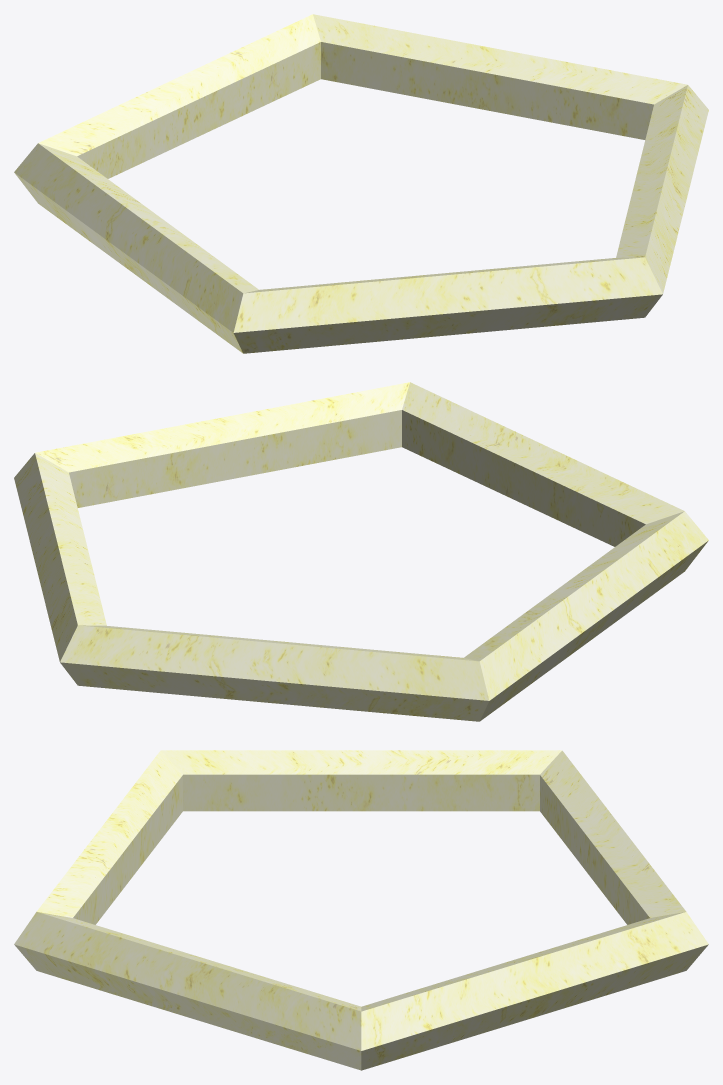
The model's file is Brass_Pentagon.gltf.
3 views of the same model, one above another, from view 1: azimuth 30°, elevation 25°; view 2: azimuth 150°, elevation 25°; view 3: azimuth 270°, elevation 25° (orthographic). The views are drawn at different scales.
Visible parts, largest first — view 1: Brass Pentagon; view 2: Brass Pentagon; view 3: Brass Pentagon.
Part boxes in pixels (box(x1,y1,x2,y2)): Brass Pentagon: box(14, 14, 708, 353); Brass Pentagon: box(14, 382, 708, 721); Brass Pentagon: box(14, 750, 708, 1070).
Bounding box in the file's own units: 2.89 × 0.2853 × 3.04.
